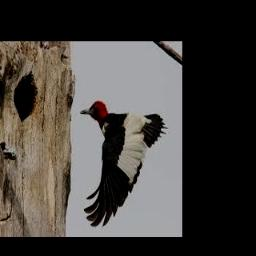Woodpecker: (81, 101, 169, 227)
